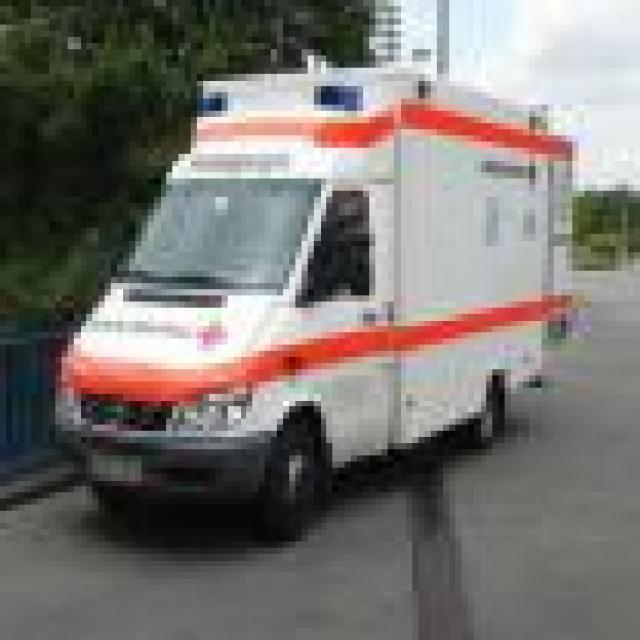emergency-vehicle: (59, 61, 582, 554)
